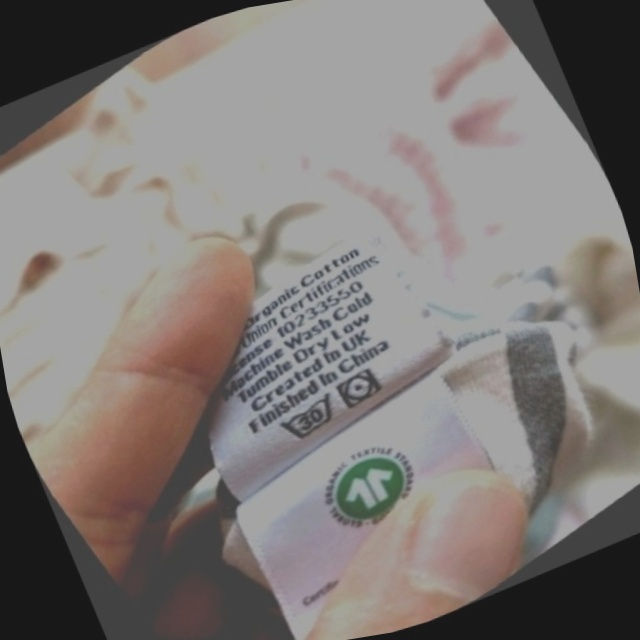30C: (262, 380, 356, 458)
tumble_dry_low: (324, 355, 395, 422)
